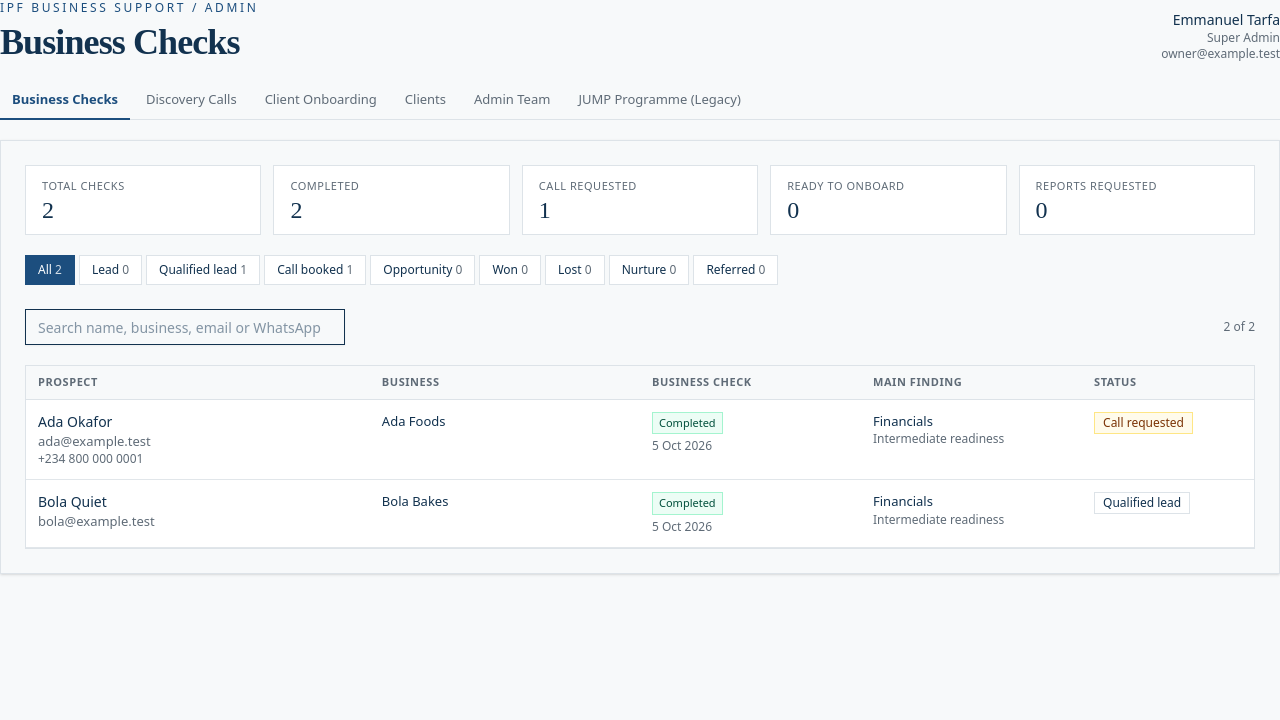
Test: Discovery Call record drawer › closes and leaves the table as it was
Click the button "Discovery Calls" at (191, 101), box [134, 82, 249, 120]
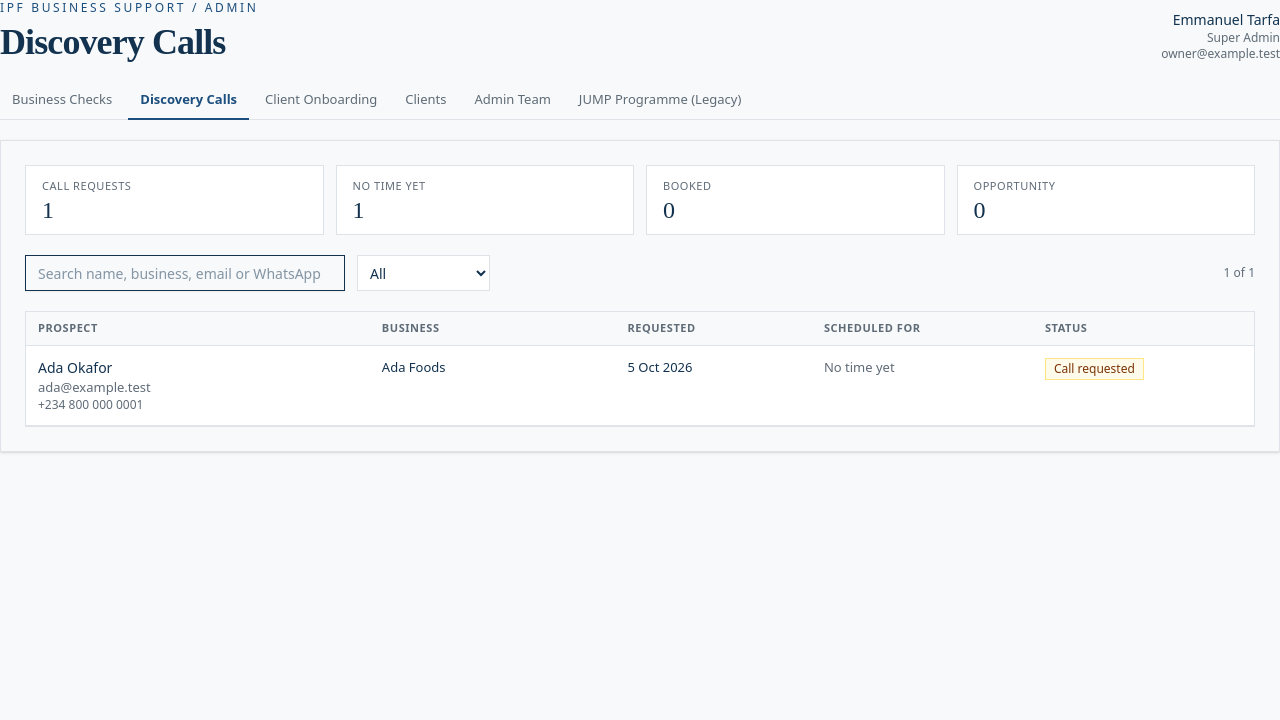
Click the text "Ada Okafor" at (640, 385), box [26, 345, 1254, 426]
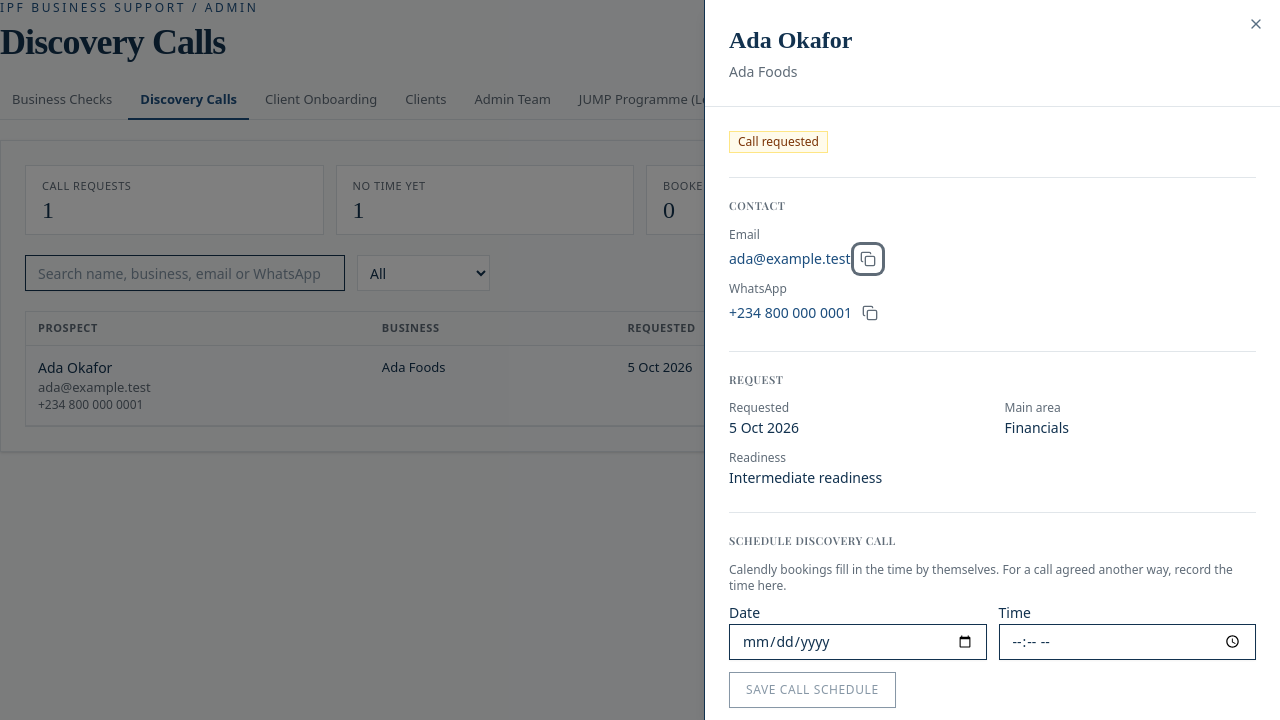
Click the button named "Close" at (1256, 24), box [1248, 16, 1264, 32]
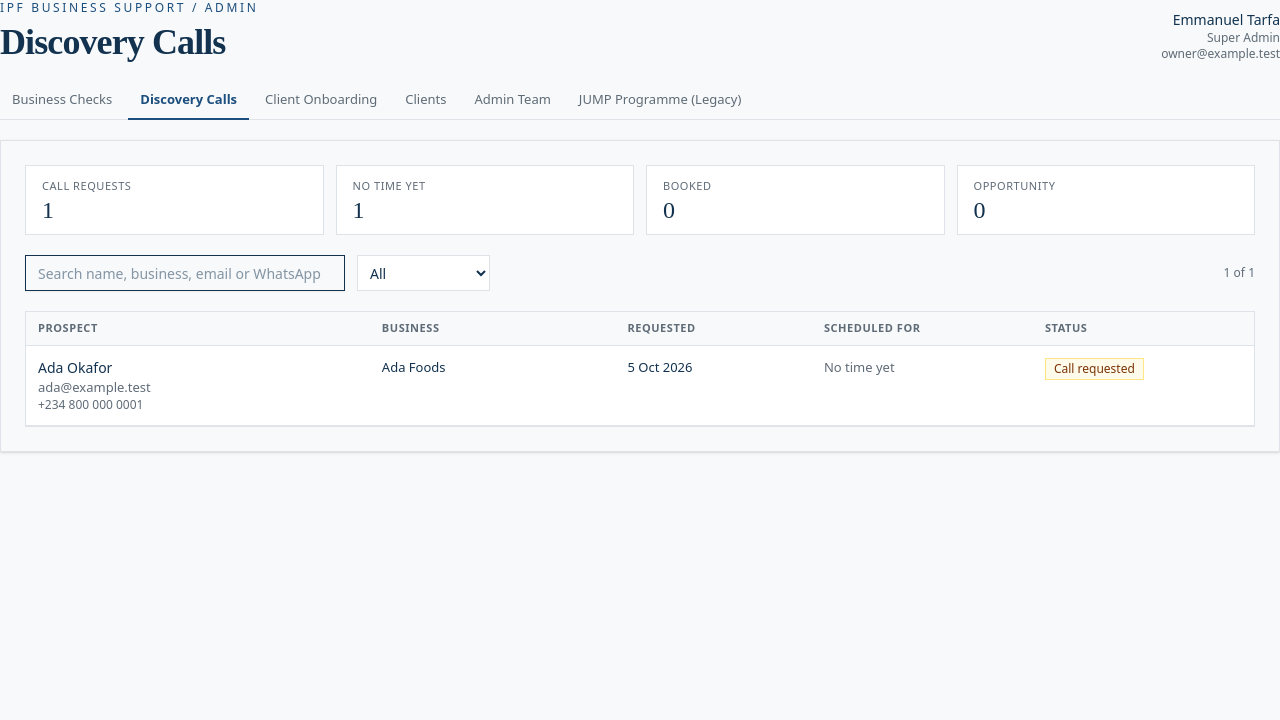
Expected: the text "Ada Okafor" is shown, [38, 358, 112, 376]
Now the heading "Discovery Calls" is shown, box [0, 22, 258, 62]
Now the dialog is gone
